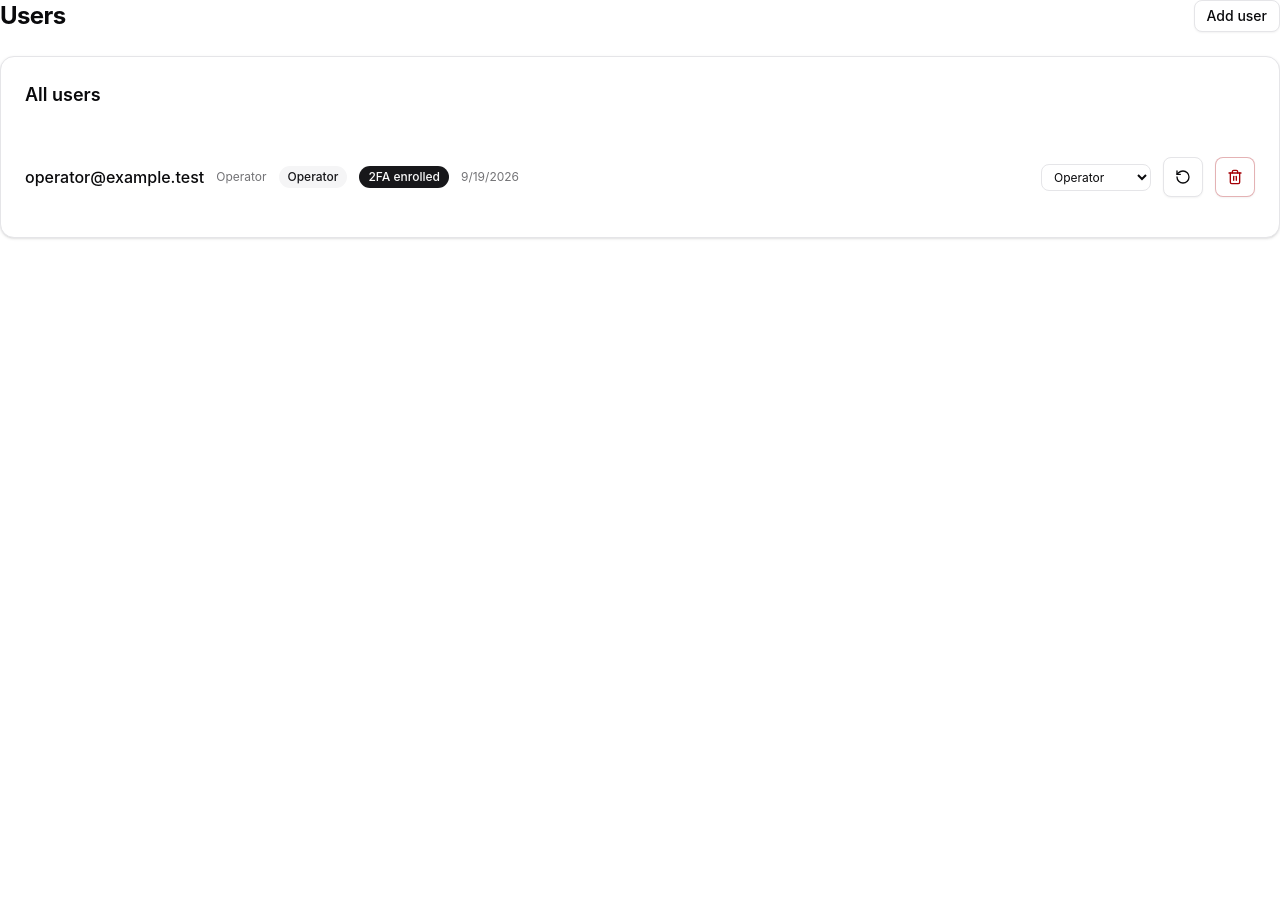
Test: marks only the selected row operation busy while 2FA reset is pending
This screenshot has width=1280, height=900.
Click the button named "Reset 2FA for operator@example.test" at (1183, 177), box [1163, 157, 1203, 197]
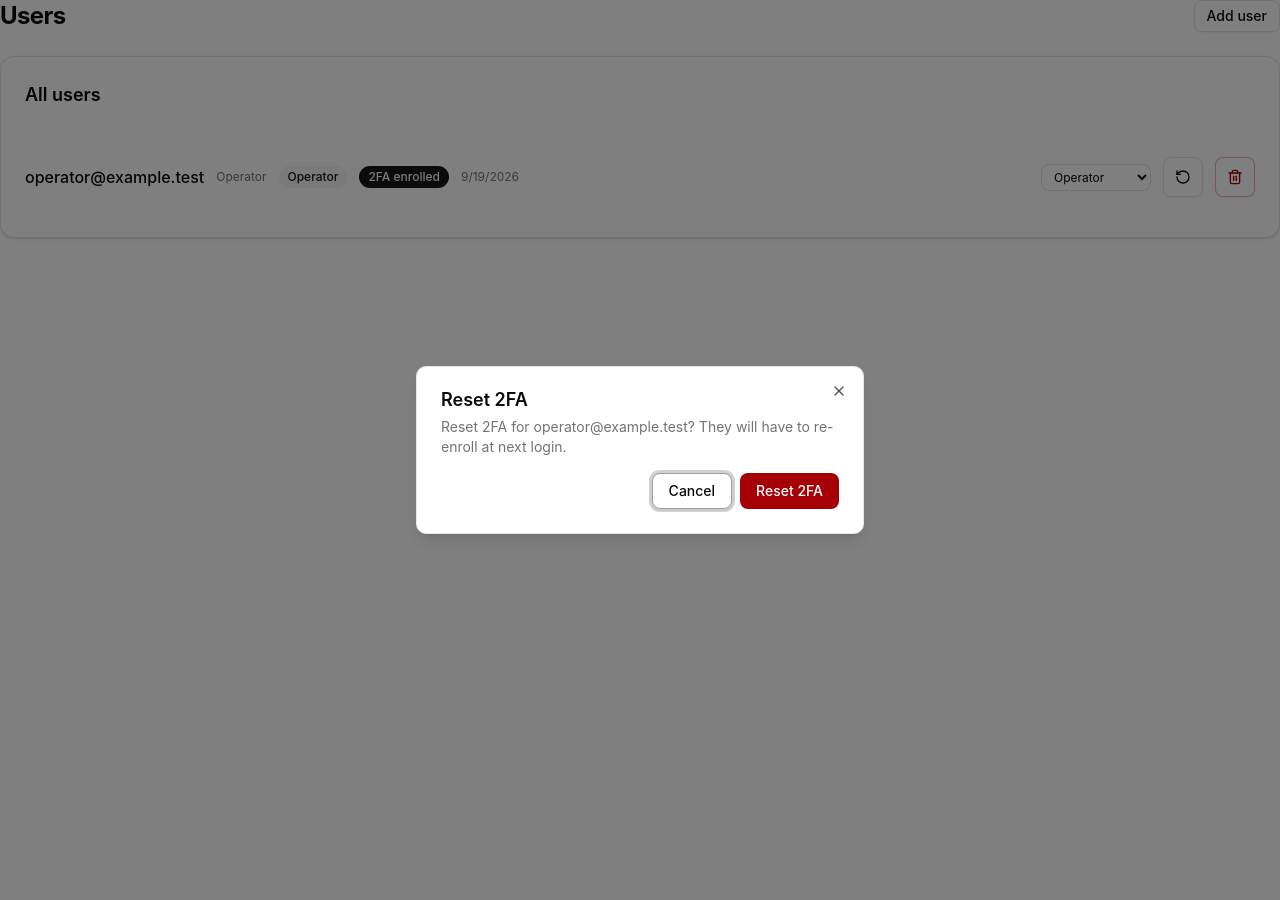
Click the button "Reset 2FA" at (790, 491), box [740, 473, 839, 509]
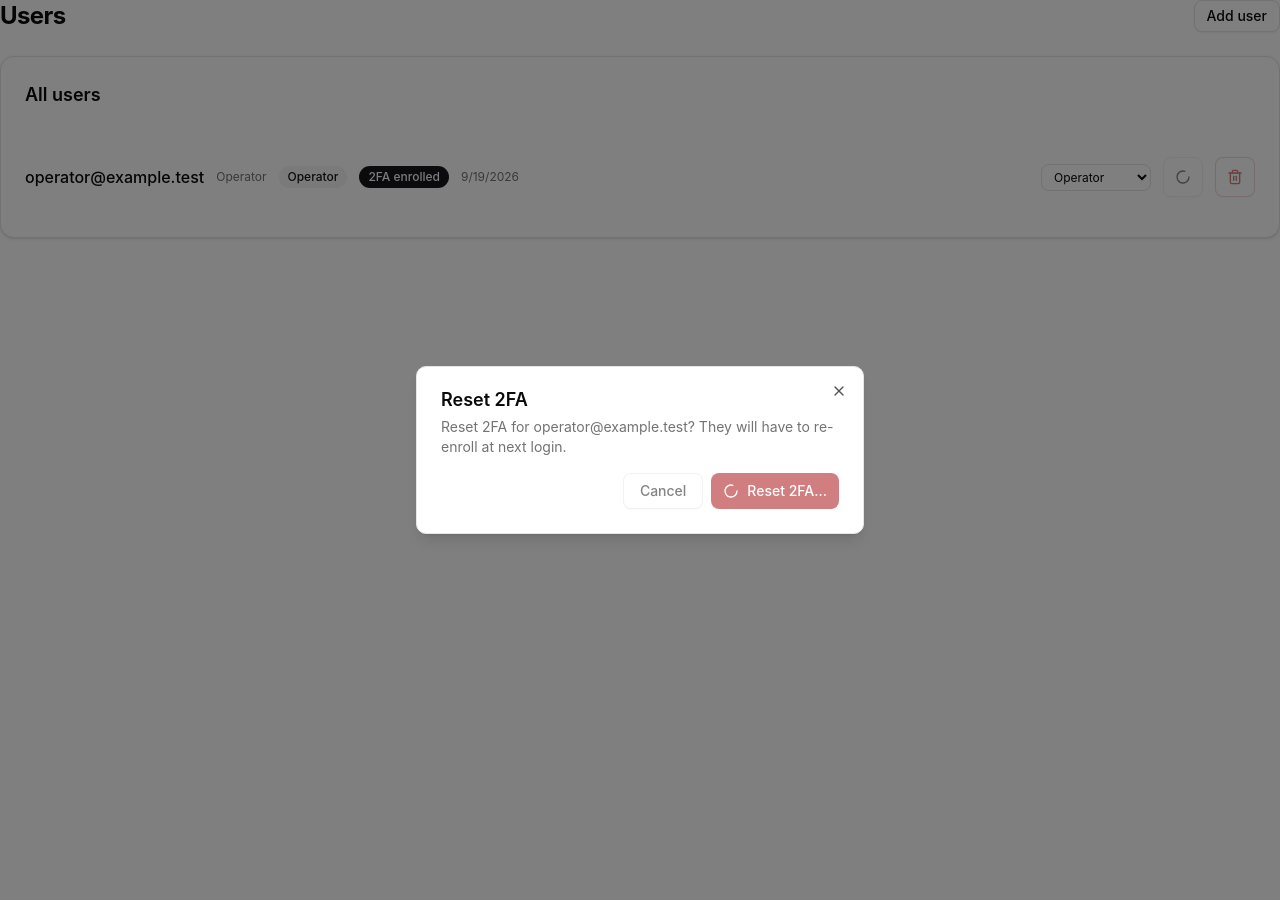
Result: the button named "Resetting 2FA for operator@example.test" has attribute aria-busy="true" at [1163, 157, 1203, 197]
Click the button "Reset 2FA…" at (775, 491), box [711, 473, 839, 509]
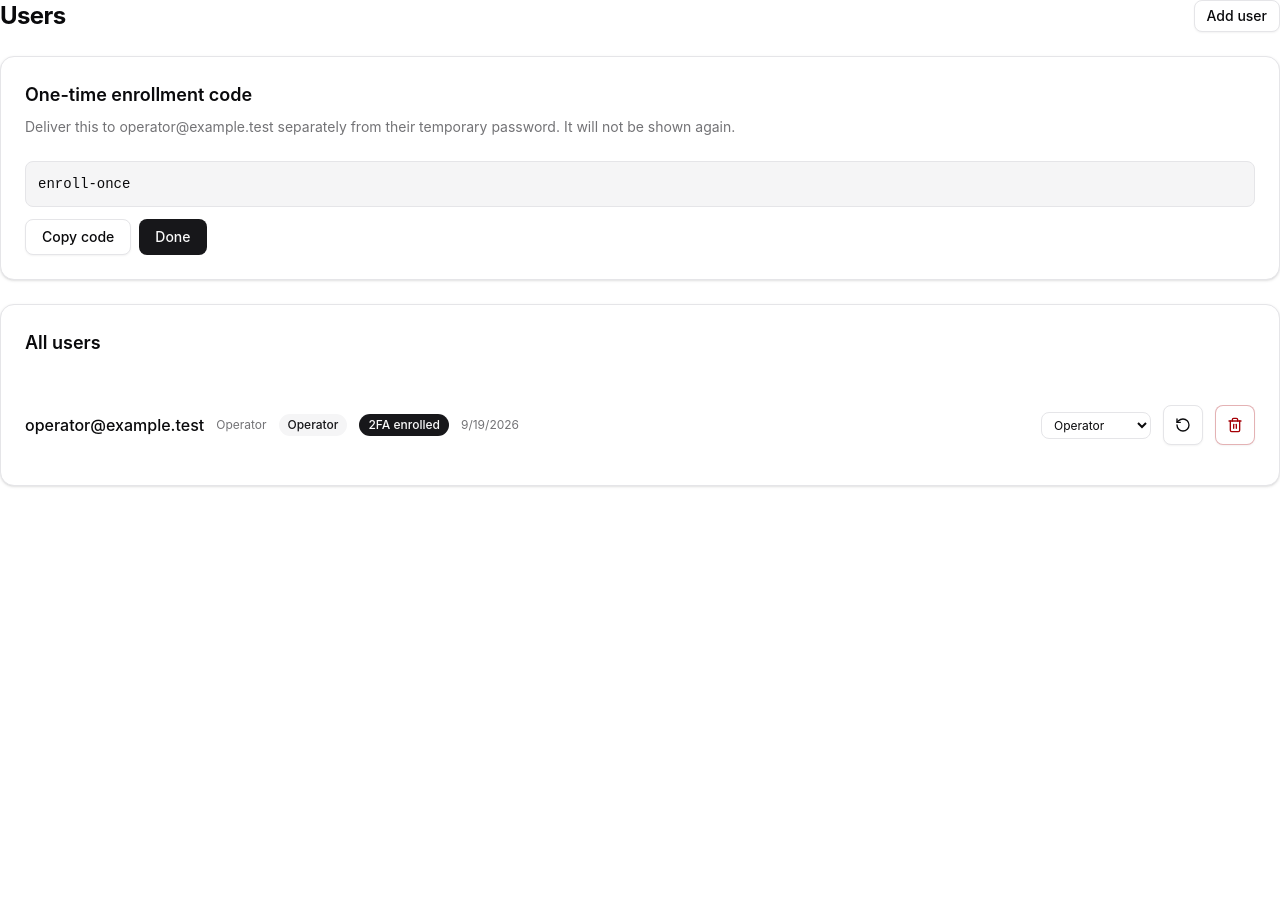
Result: the text "One-time enrollment code" is shown at [25, 84, 252, 105]
